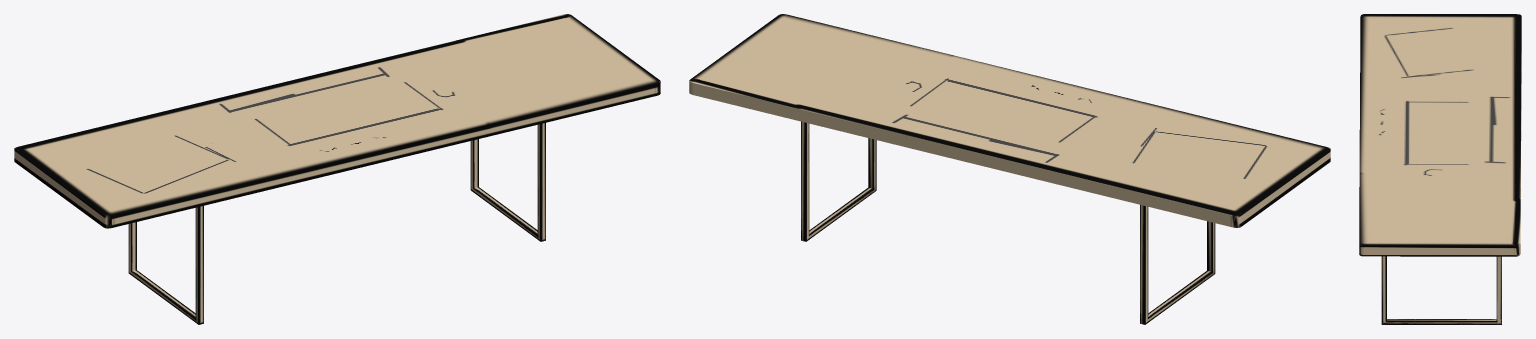
Rendered from desk04_26.glb.
3 renders of one model, left to right at view 1: azimuth 30°, elevation 25°; view 2: azimuth 150°, elevation 25°; view 3: azimuth 270°, elevation 25°, orthographic. The views are drawn at different scales.
Parts seen in each view (by area): view 1: DeskTop, Deskstand, Deskstand2; view 2: DeskTop, Deskstand2, Deskstand; view 3: DeskTop, Deskstand2.
Boxes of the visible parts, bbox=[...] form: DeskTop: bbox=[14, 14, 660, 228]; Deskstand: bbox=[128, 206, 203, 324]; Deskstand2: bbox=[470, 123, 545, 241]; DeskTop: bbox=[689, 14, 1330, 227]; Deskstand2: bbox=[801, 121, 876, 241]; Deskstand: bbox=[1140, 205, 1215, 324]; DeskTop: bbox=[1359, 14, 1521, 256]; Deskstand2: bbox=[1381, 256, 1501, 324].
Size of the model in its own units: 10.17 by 2.5 by 3.01.
2 materials, 2 textured.
